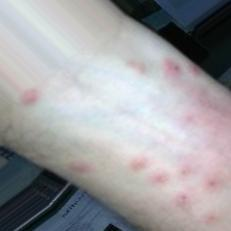Fleas: (200, 211, 222, 230), (177, 161, 196, 182), (161, 59, 183, 77), (68, 159, 95, 172), (126, 58, 148, 73), (21, 87, 39, 105), (173, 191, 191, 209), (204, 177, 222, 193), (188, 63, 204, 80), (129, 155, 148, 169), (149, 171, 169, 183)
